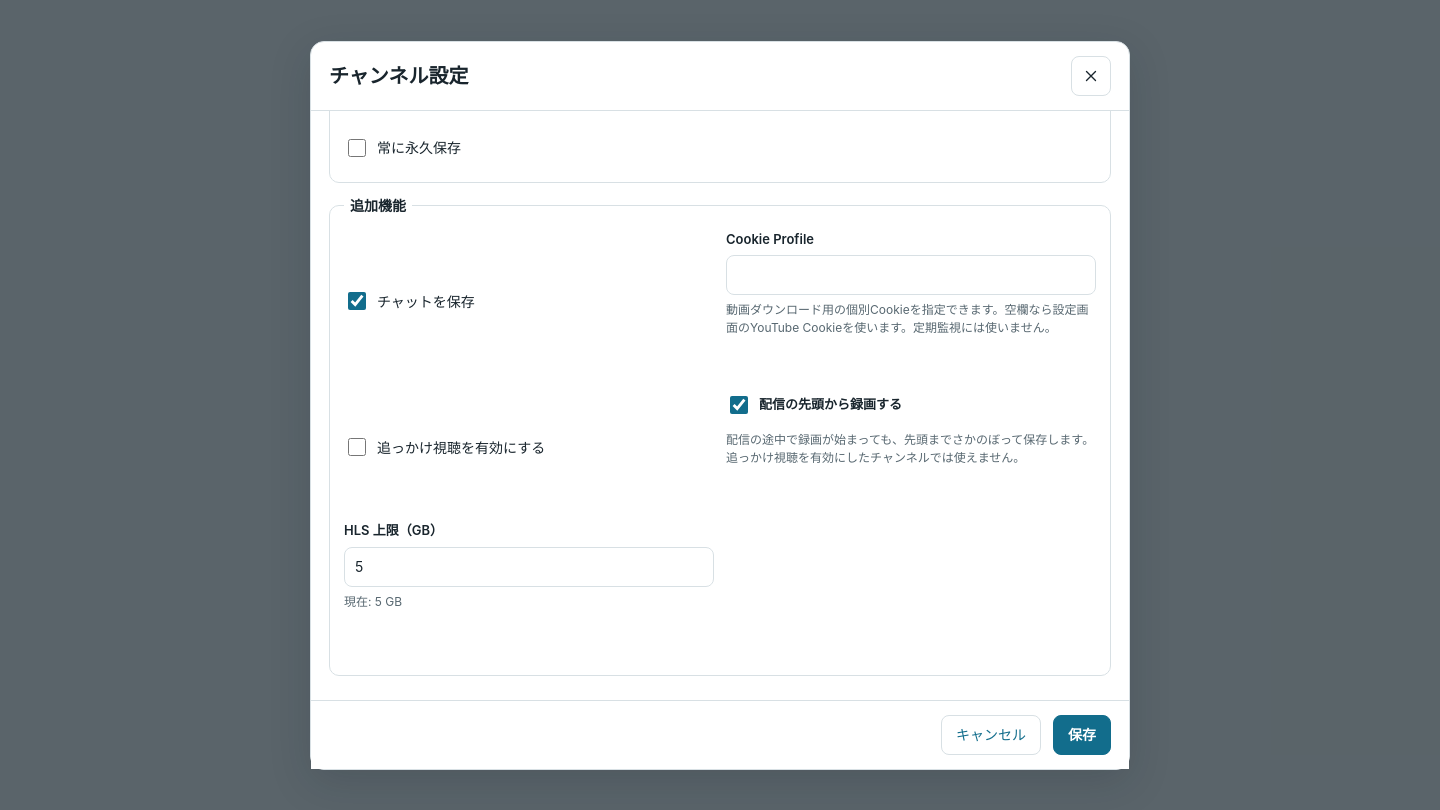
Test: ChannelFormDialog › defaults live-from-start on and disables it while live playback is enabled
(page scrolled)
Click the checkbox labelled "配信の先頭から録画する": {"x": 739, "y": 405} x1=730 y1=396 x2=748 y2=414
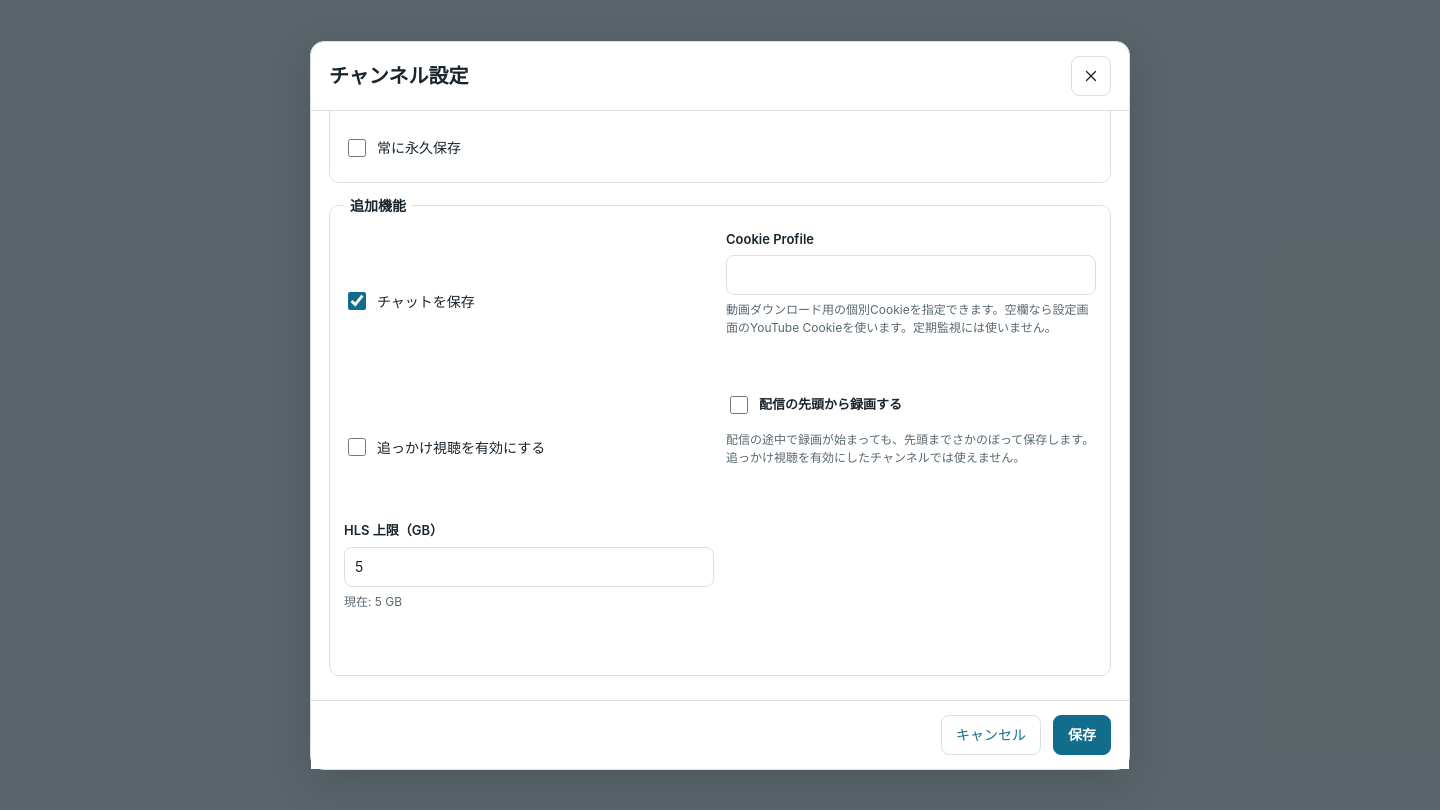
Submit the dialog, box x1=310 y1=40 x2=1130 y2=770
Click the checkbox labelled "追っかけ視聴を有効にする": {"x": 357, "y": 447} x1=348 y1=438 x2=366 y2=456
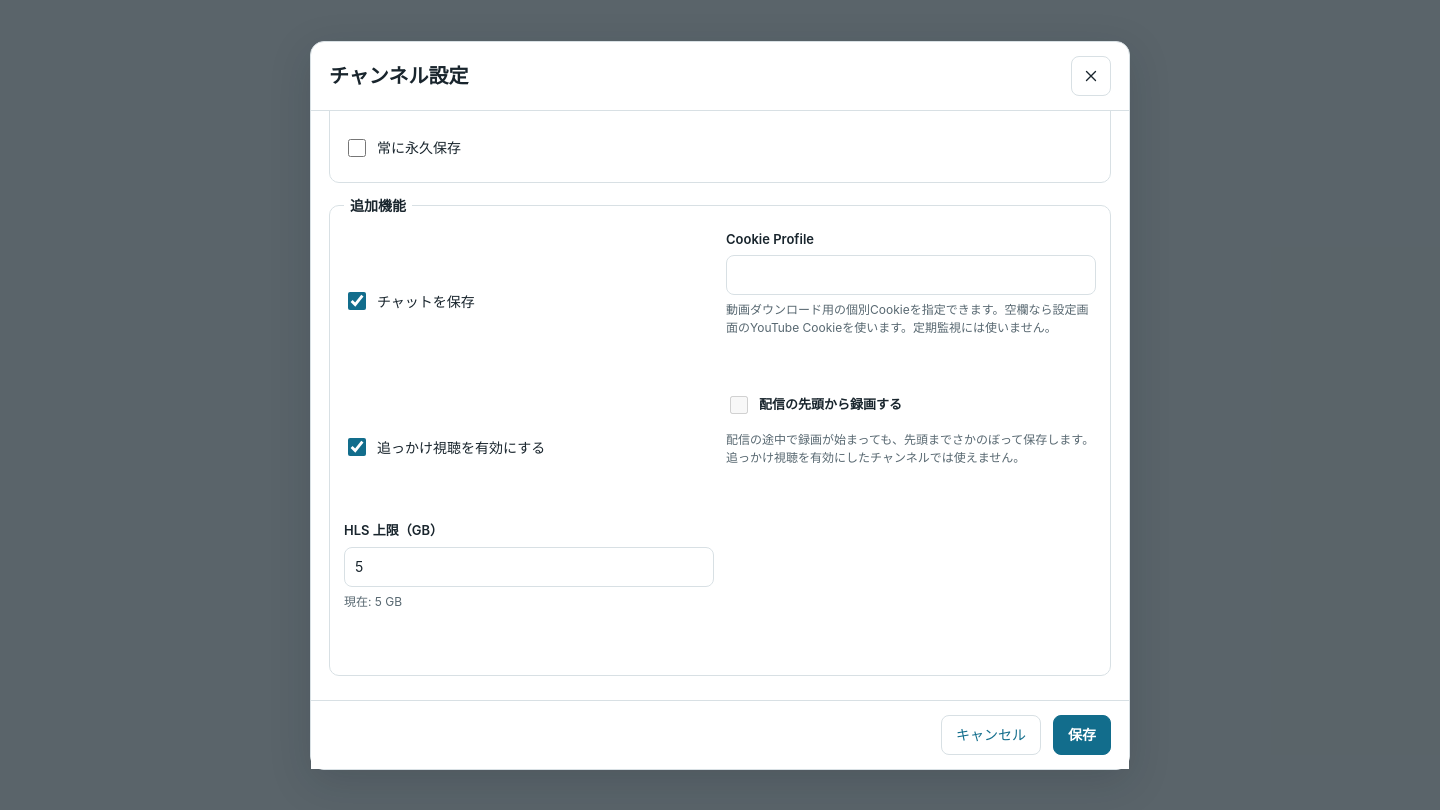
Result: the checkbox labelled "配信の先頭から録画する" is disabled at x1=730 y1=396 x2=748 y2=414
